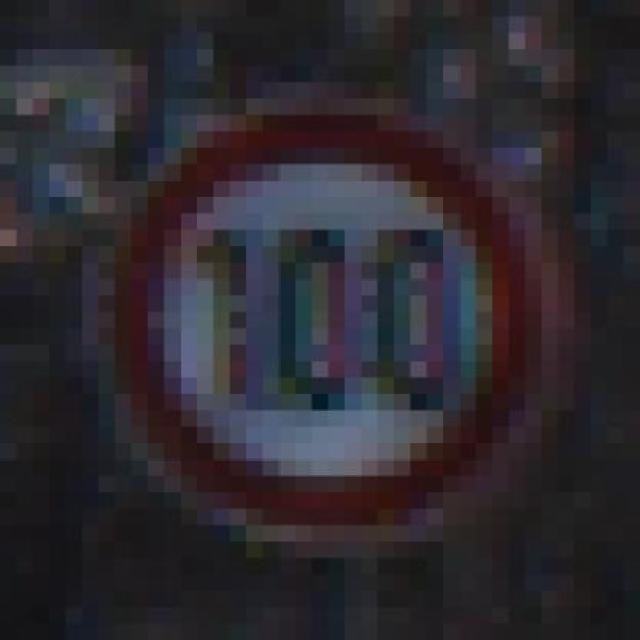forb_speed_over_100: (125, 110, 539, 535)
